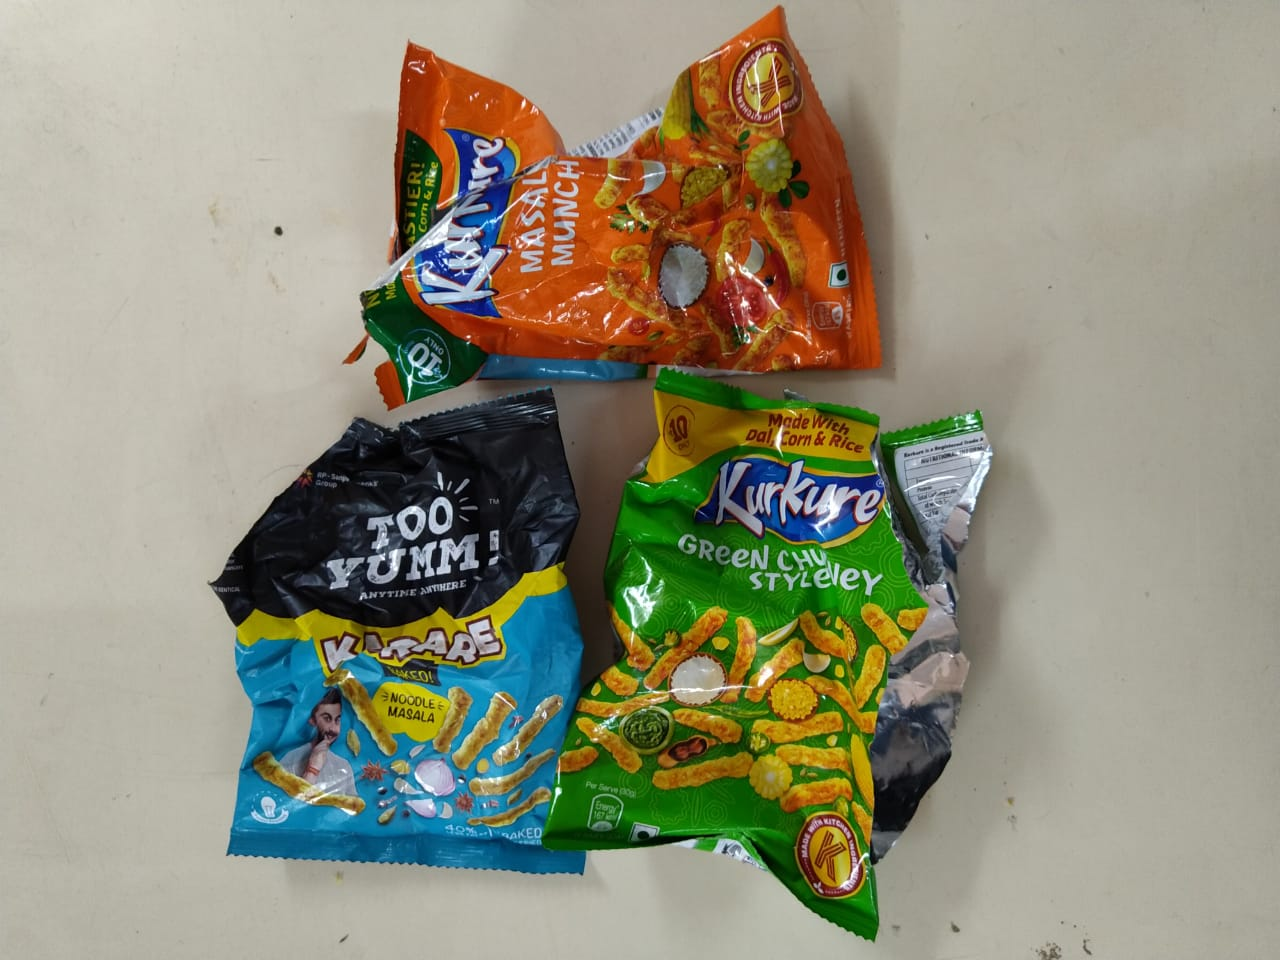kurkure: (669, 417, 991, 569), (389, 85, 527, 359), (693, 447, 951, 543), (401, 99, 543, 213), (425, 129, 513, 305)
plastic: (257, 45, 995, 931)
tooyumm: (283, 473, 527, 607), (337, 477, 509, 569), (393, 497, 553, 579)
wrapper: (551, 393, 1023, 861), (371, 9, 919, 385), (221, 385, 597, 863)
